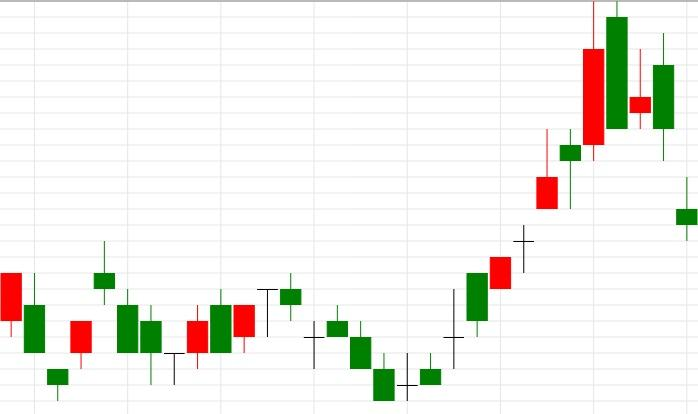bearish_engulfing_fall: (373, 0, 675, 401)
morning_star_rise: (93, 241, 209, 386)
